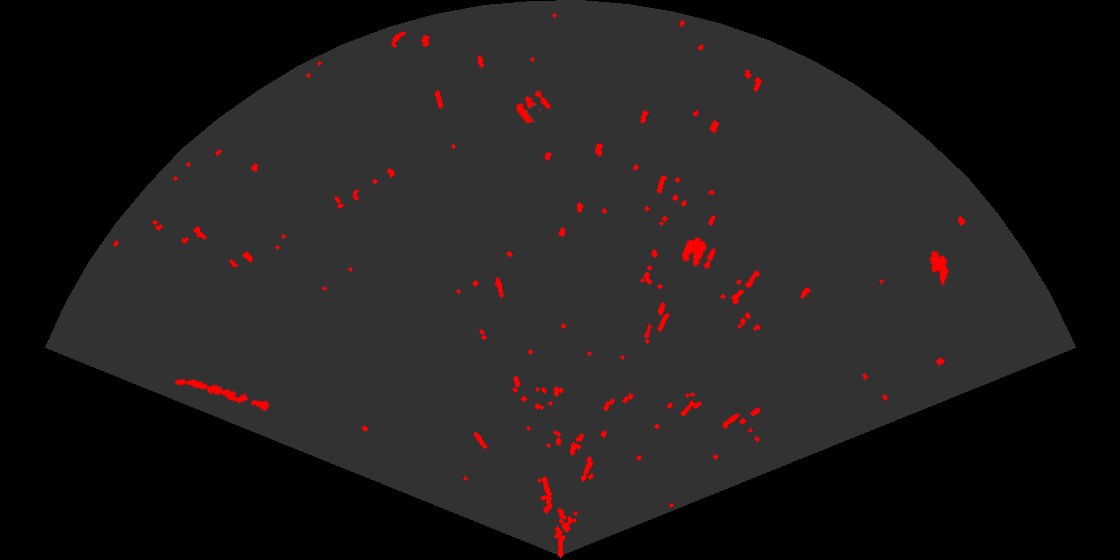AUV: (928, 249, 950, 287)
ball: (515, 89, 552, 125), (680, 236, 717, 271)
chain: (173, 377, 271, 413)
